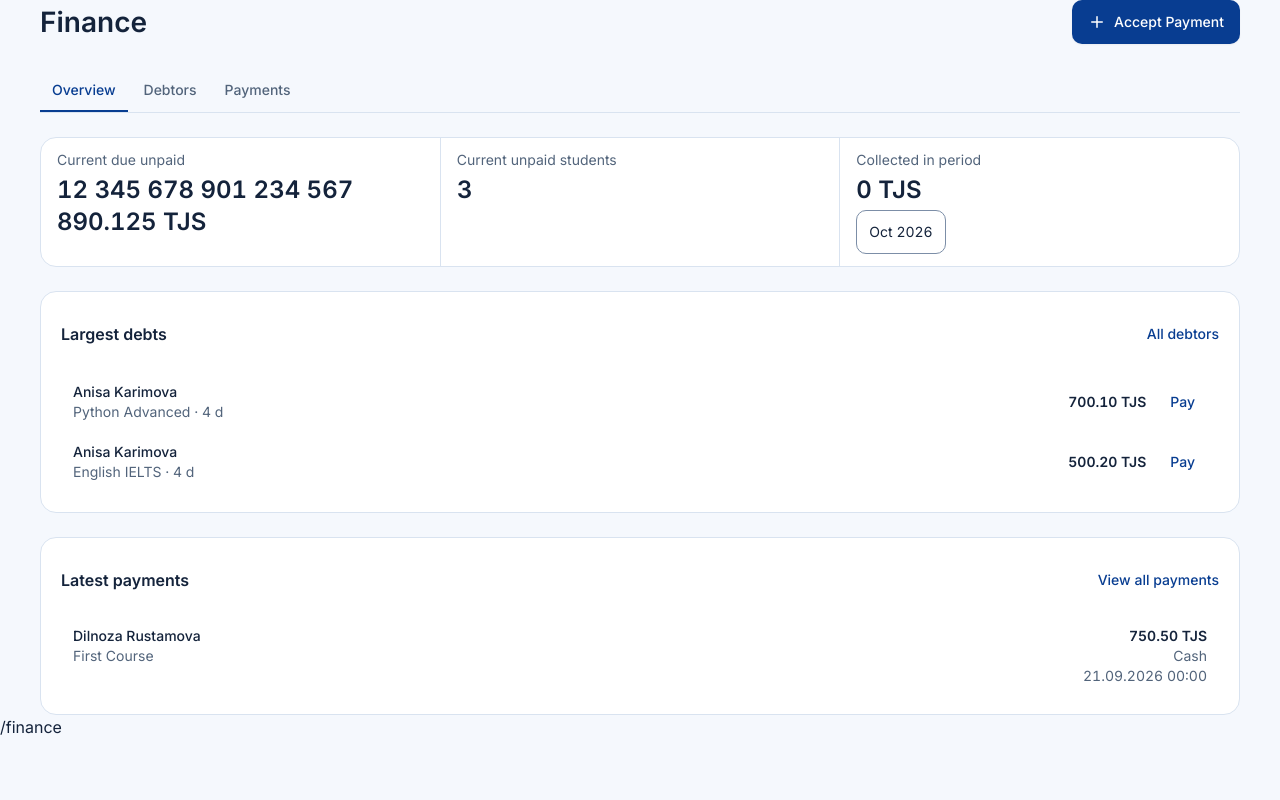
Test: Finance overview › applies a valid range to collection only while current values keep their labels and request
Expected: the text "0 TJS" is shown, [856, 175, 922, 204]
Click the button with aria-label "Collection period:": (901, 232) [856, 210, 946, 254]
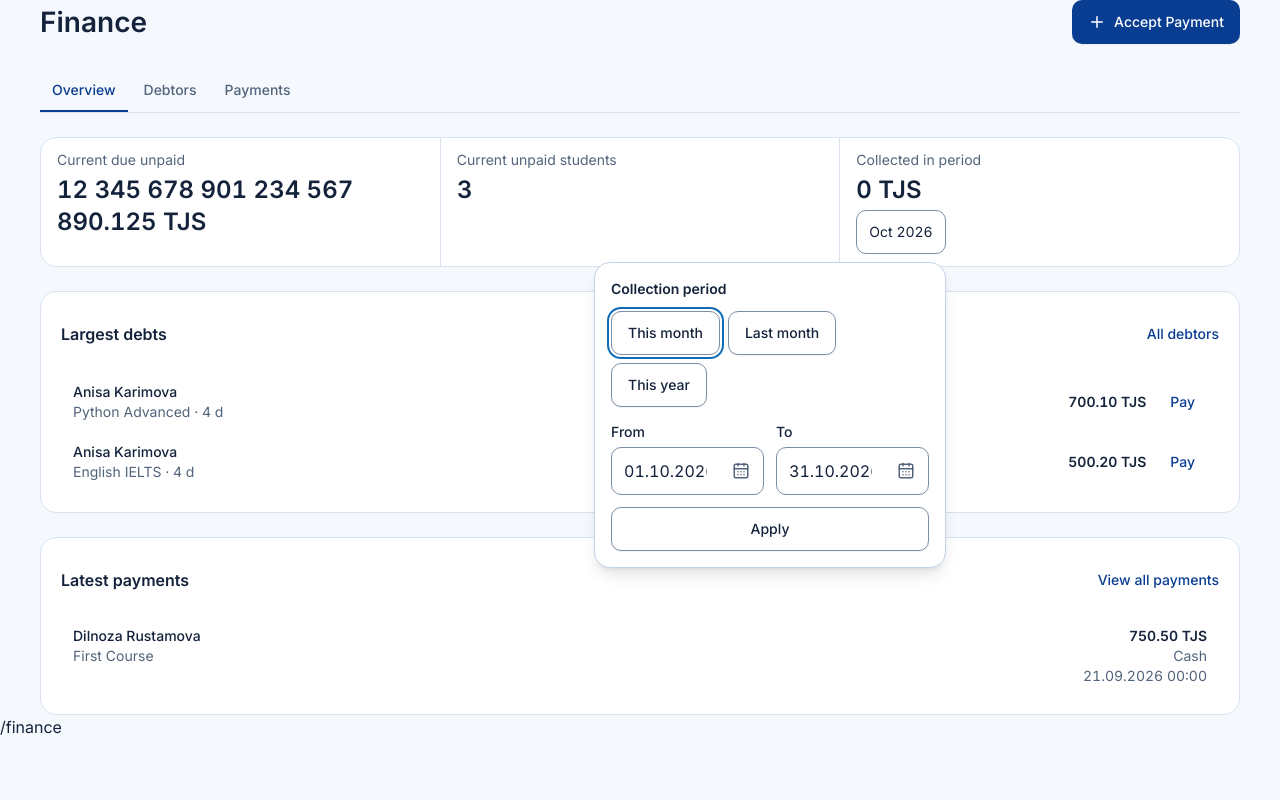
Expected: the field labelled "From" is shown
Replace the text in the field labelled "From" with "01.01.2026": (666, 471) [612, 451, 719, 491]
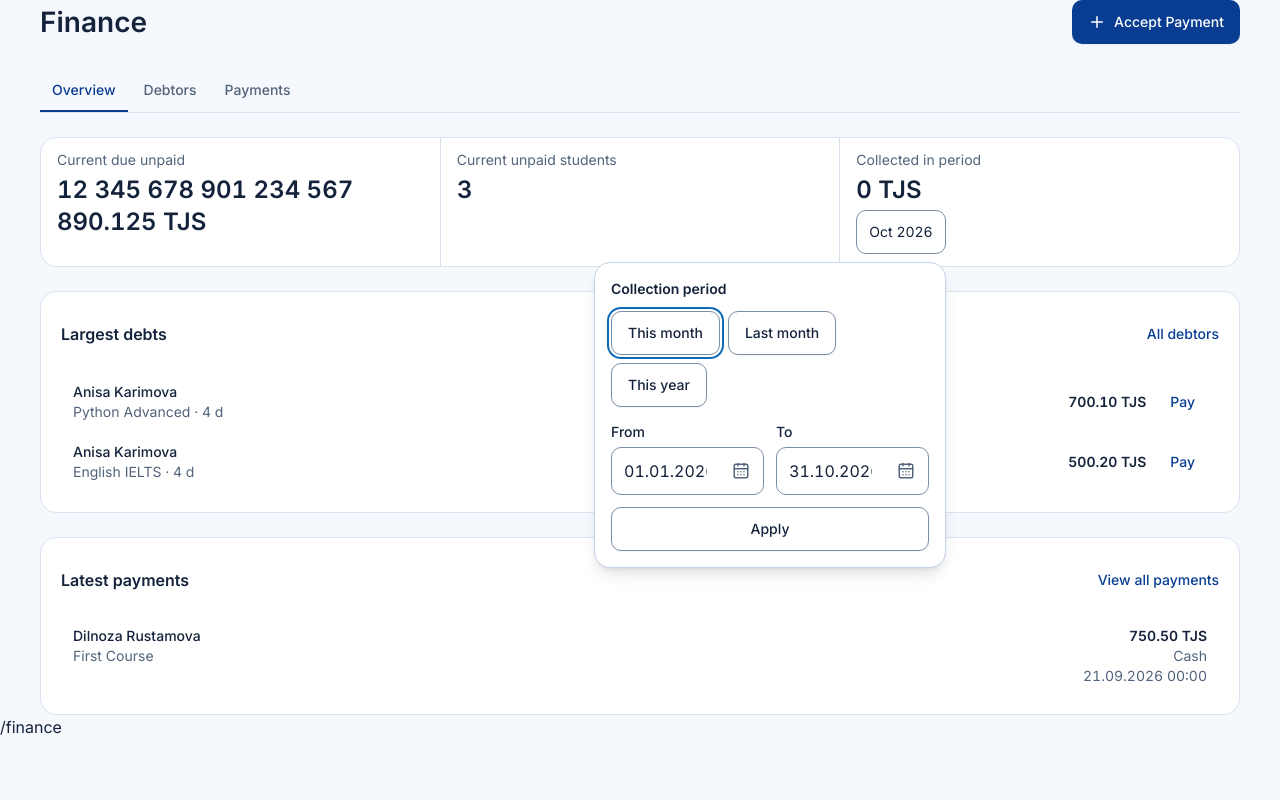
Replace the text in the field labelled "To" with "31.01.2026": (830, 471) [777, 451, 884, 491]
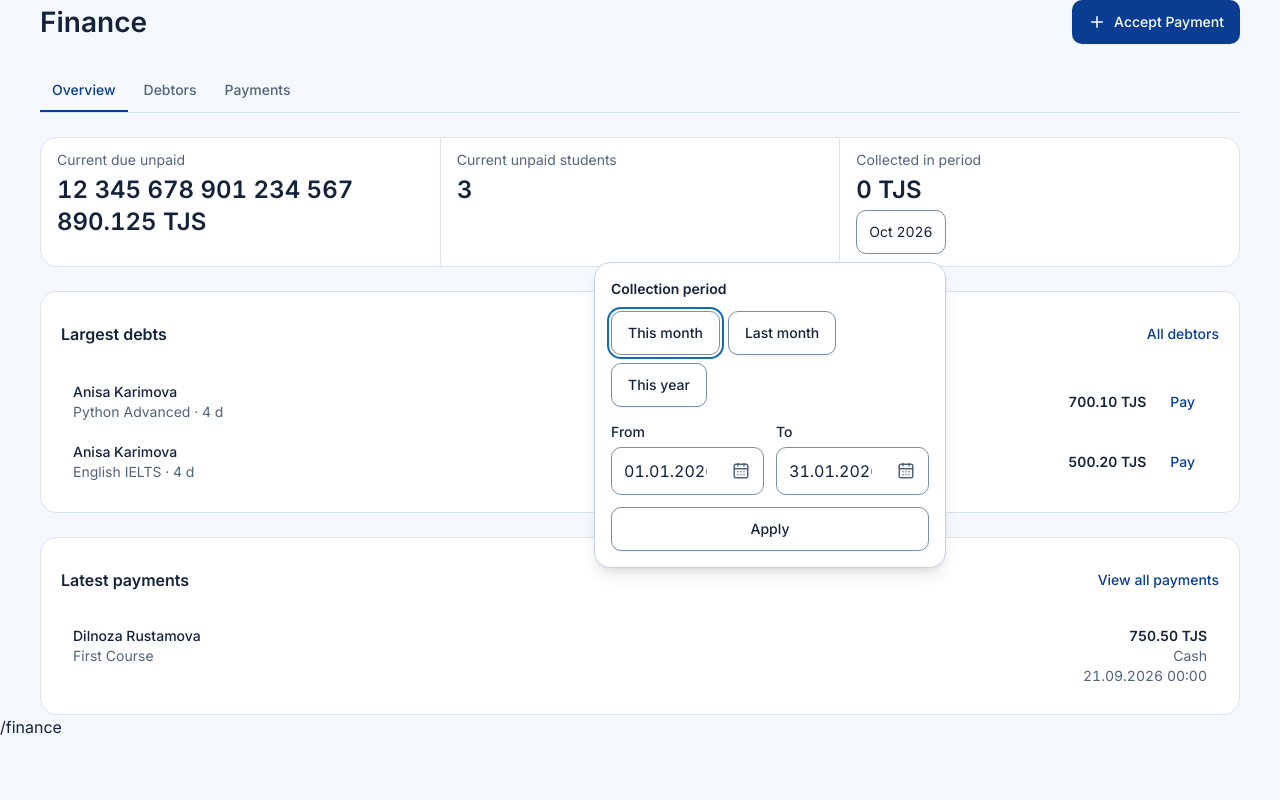
Click the button "Apply": (770, 529) [611, 507, 929, 551]
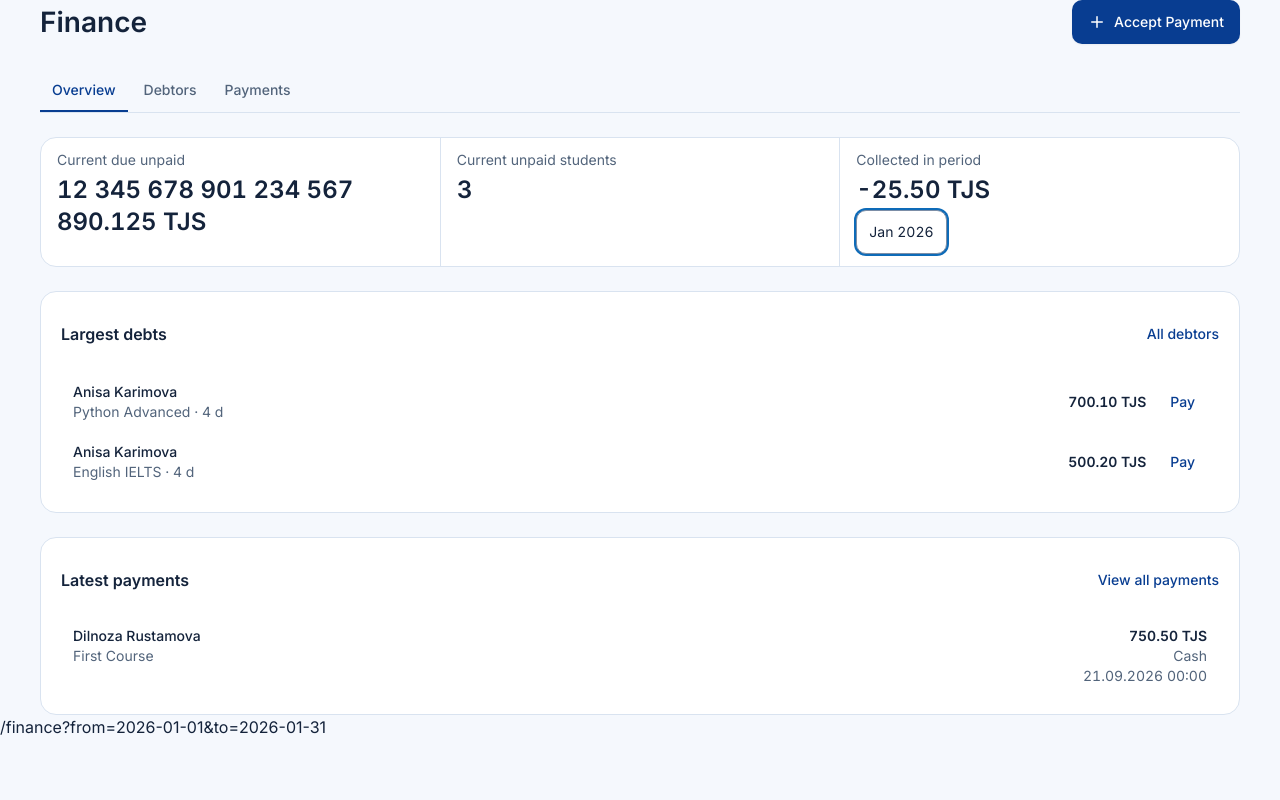
Expected: the text "12 345 678 901 234 567 890.125 TJS" is shown, [57, 175, 353, 236]
Expected: the text "-25.50 TJS" is shown, [856, 175, 990, 204]
Expected: the text with test id "location" reads "/finance?from=2026-01-01&to=2026-01-31", [0, 717, 326, 737]
